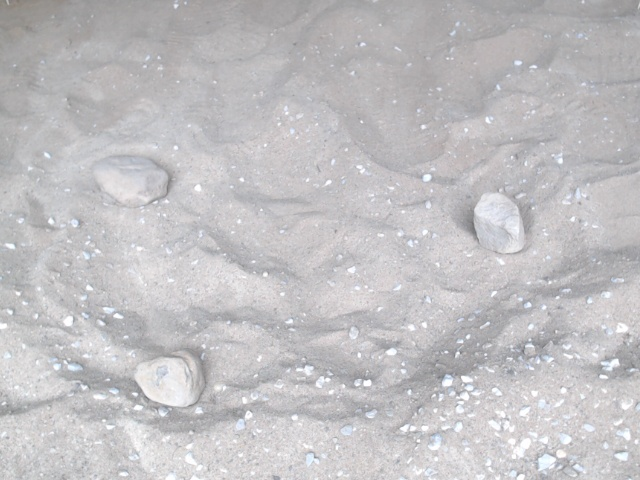rock: (129, 343, 210, 412), (87, 150, 172, 213), (467, 187, 531, 258)
